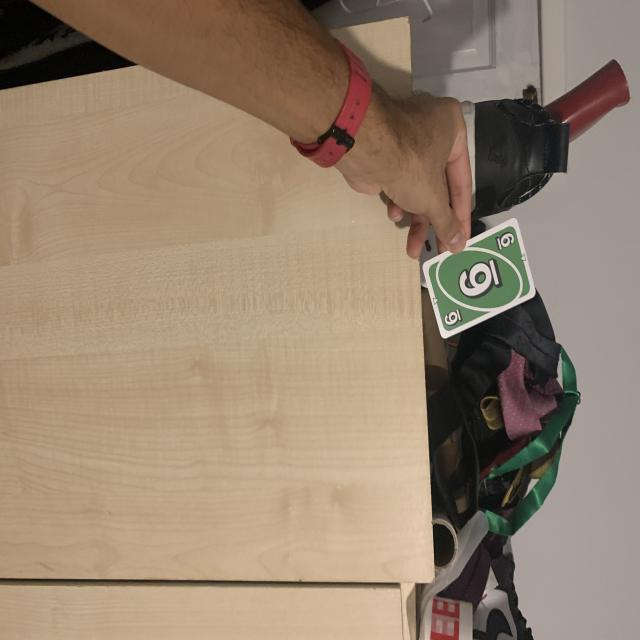lgreen-6: (492, 229, 518, 252)
